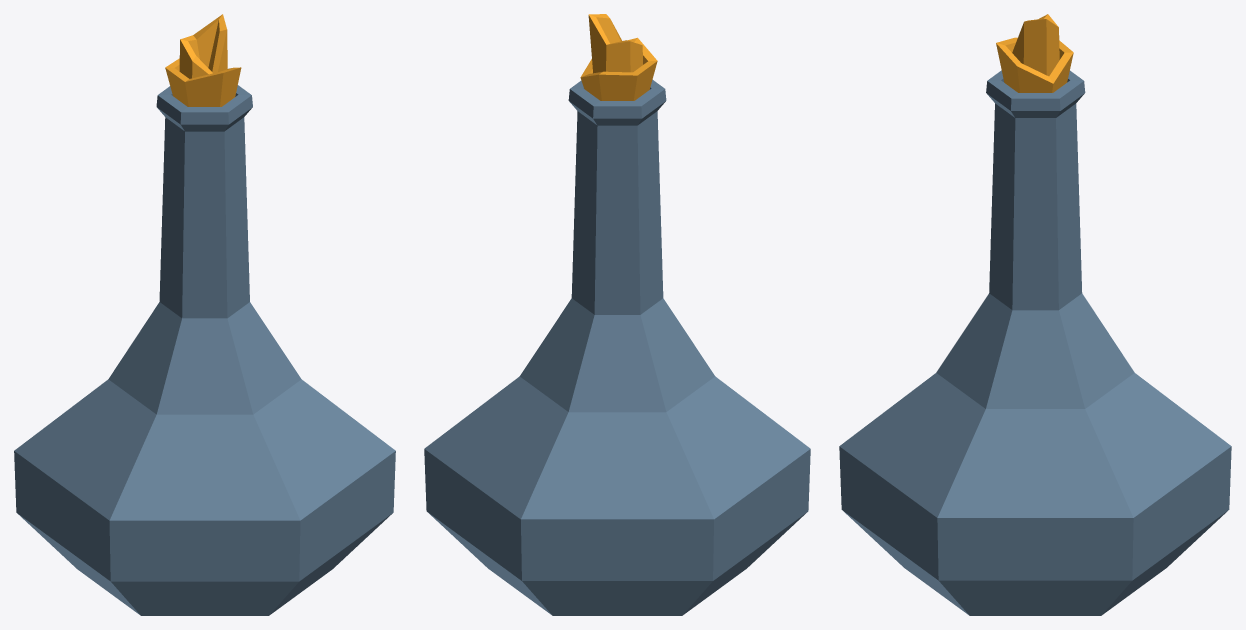
The model's file is SM_Bottle_Alchemy_Alcohol_Full.fbx.
3 renders of one model, left to right at view 1: azimuth 30°, elevation 25°; view 2: azimuth 150°, elevation 25°; view 3: azimuth 270°, elevation 25°, orthographic. The views are drawn at different scales.
Parts seen in each view (by area): view 1: bottle-alchemy-alcohol-full; view 2: bottle-alchemy-alcohol-full; view 3: bottle-alchemy-alcohol-full.
Boxes of the visible parts, bbox=[...] form: bottle-alchemy-alcohol-full: bbox=[14, 14, 395, 615]; bottle-alchemy-alcohol-full: bbox=[424, 14, 810, 615]; bottle-alchemy-alcohol-full: bbox=[839, 14, 1231, 615].
Bounding box in the file's own units: 0.1402 × 0.2552 × 0.1619.
